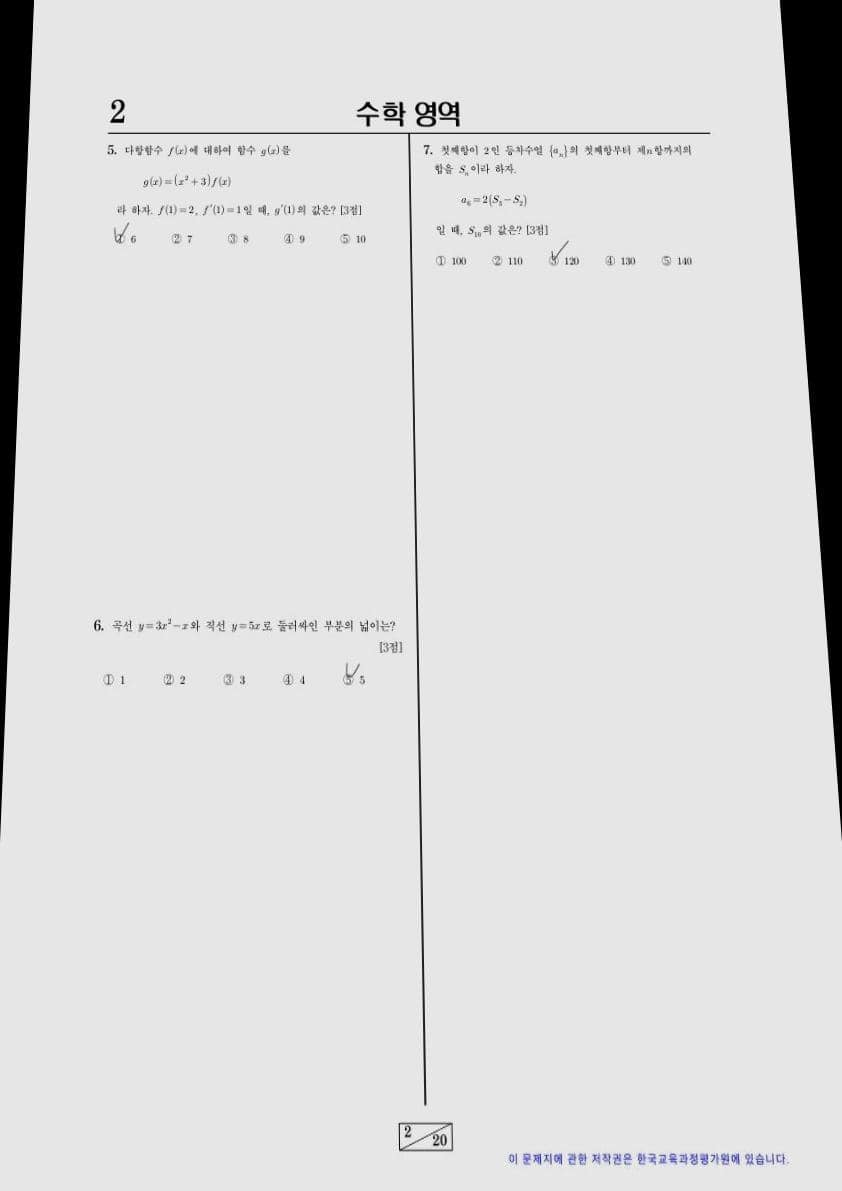question: (414, 137, 714, 286), (91, 134, 383, 263), (69, 606, 412, 705)
